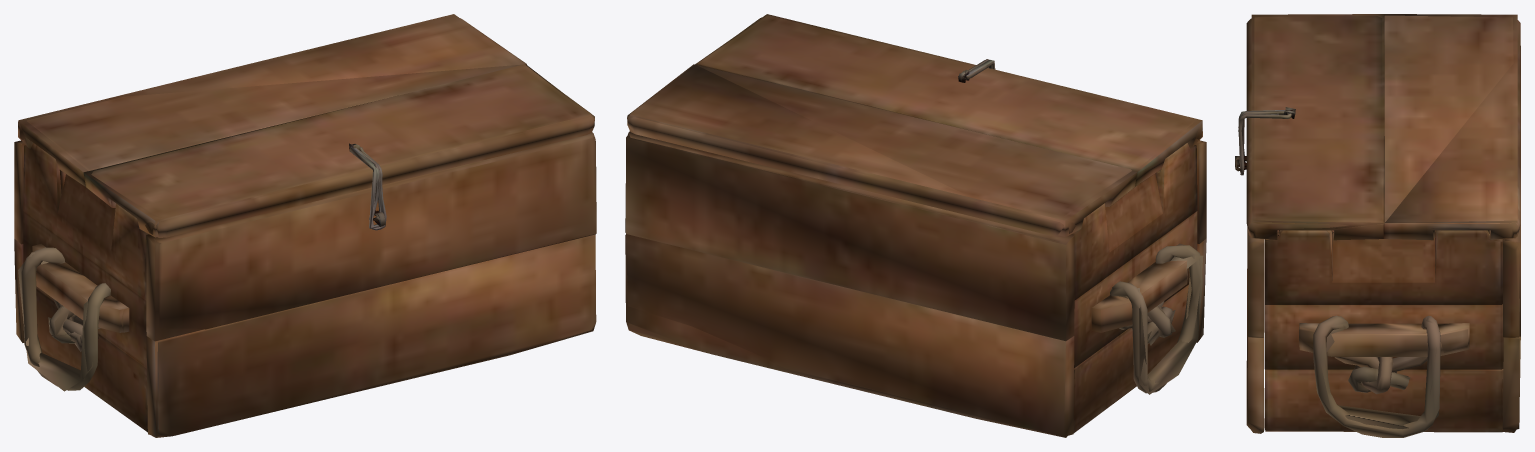
File: ph-wooden_crate_01.glb
3 renders of one model, left to right at view 1: azimuth 30°, elevation 25°; view 2: azimuth 150°, elevation 25°; view 3: azimuth 270°, elevation 25°, orthographic. The views are drawn at different scales.
Parts seen in each view (by area): view 1: wooden_crate_01 (×2), wooden_crate_01_lid (×2), wooden_crate_01_latch; view 2: wooden_crate_01 (×2), wooden_crate_01_lid (×2); view 3: wooden_crate_01_lid (×2), wooden_crate_01 (×2), wooden_crate_01_latch (×2).
Part boxes in pixels (<box>): wooden_crate_01 (×2): <box>14,132,596,437</box>; wooden_crate_01_lid (×2): <box>18,14,594,237</box>; wooden_crate_01_latch: <box>350,146,383,228</box>; wooden_crate_01 (×2): <box>625,131,1206,437</box>; wooden_crate_01_lid (×2): <box>627,14,1202,237</box>; wooden_crate_01_lid (×2): <box>1246,14,1520,240</box>; wooden_crate_01 (×2): <box>1235,46,1520,437</box>; wooden_crate_01_latch (×2): <box>1238,110,1291,175</box>.
Size of the model in its own units: 0.6 by 0.2544 by 0.2965.
1 material, 1 textured.
